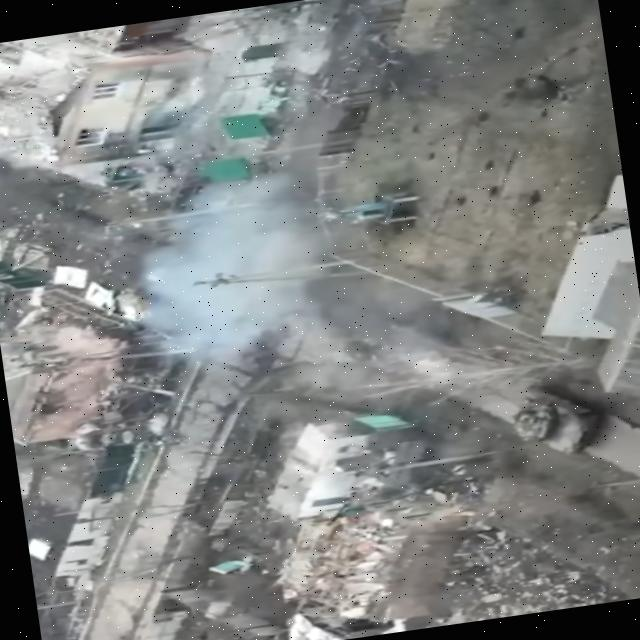MBT: (485, 370, 614, 468)
